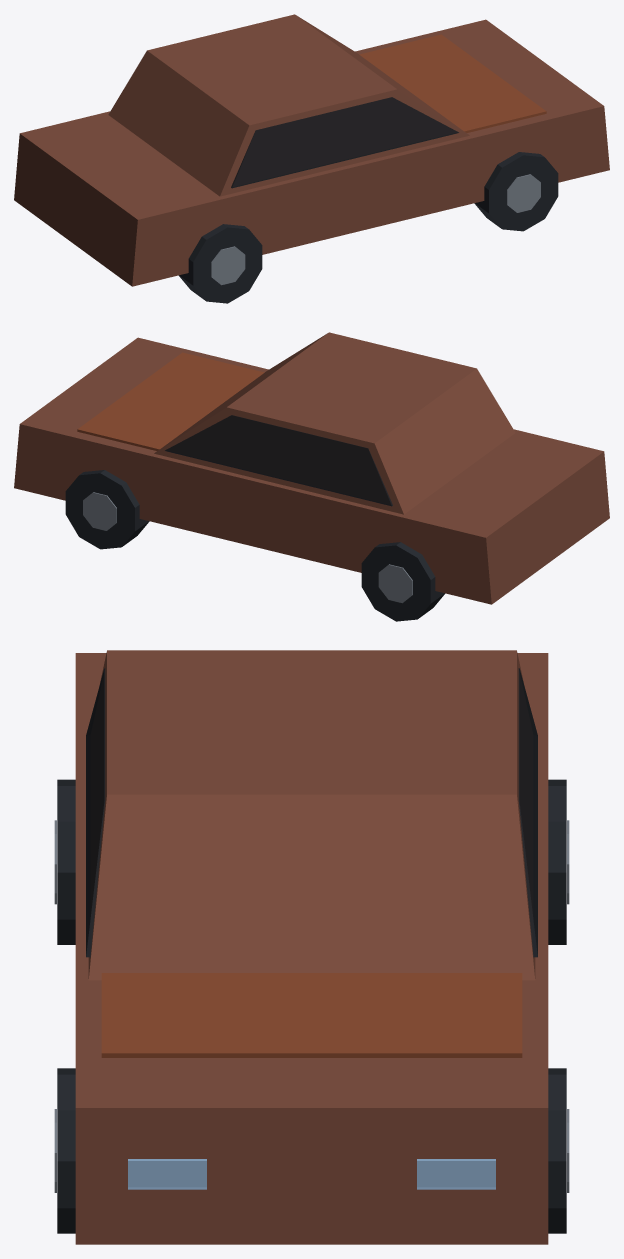
File: car_wreck.glb
3 views of the same model, one above another, from view 1: azimuth 30°, elevation 25°; view 2: azimuth 150°, elevation 25°; view 3: azimuth 270°, elevation 25° (orthographic). The views are drawn at different scales.
Parts seen in each view (by area): view 1: car_wreck; view 2: car_wreck; view 3: car_wreck.
Boxes of the visible parts, x1,y1,x2,y2 form: car_wreck: [14, 14, 609, 303]; car_wreck: [14, 332, 609, 621]; car_wreck: [54, 650, 569, 1244].
Size of the model in its own units: 4.22 by 1.35 by 1.96.
